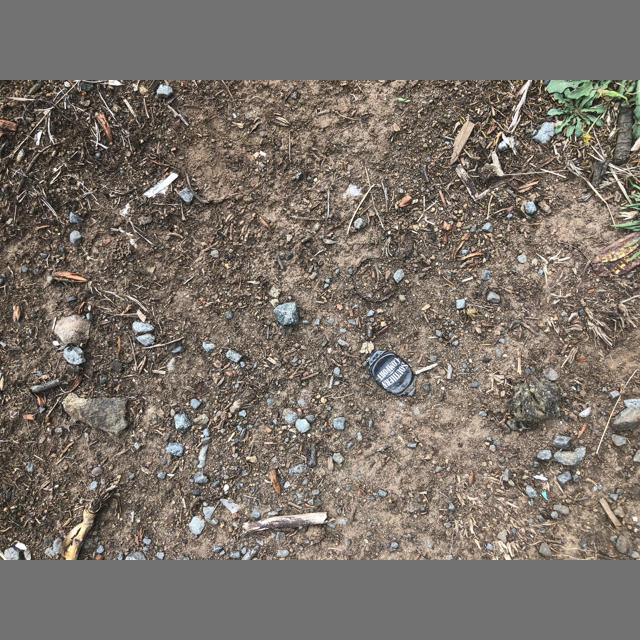litter: (367, 349, 415, 397), (144, 173, 178, 198), (542, 492, 547, 500)
